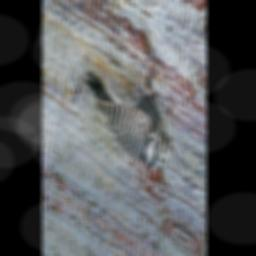Woodpecker: (79, 65, 165, 180)
